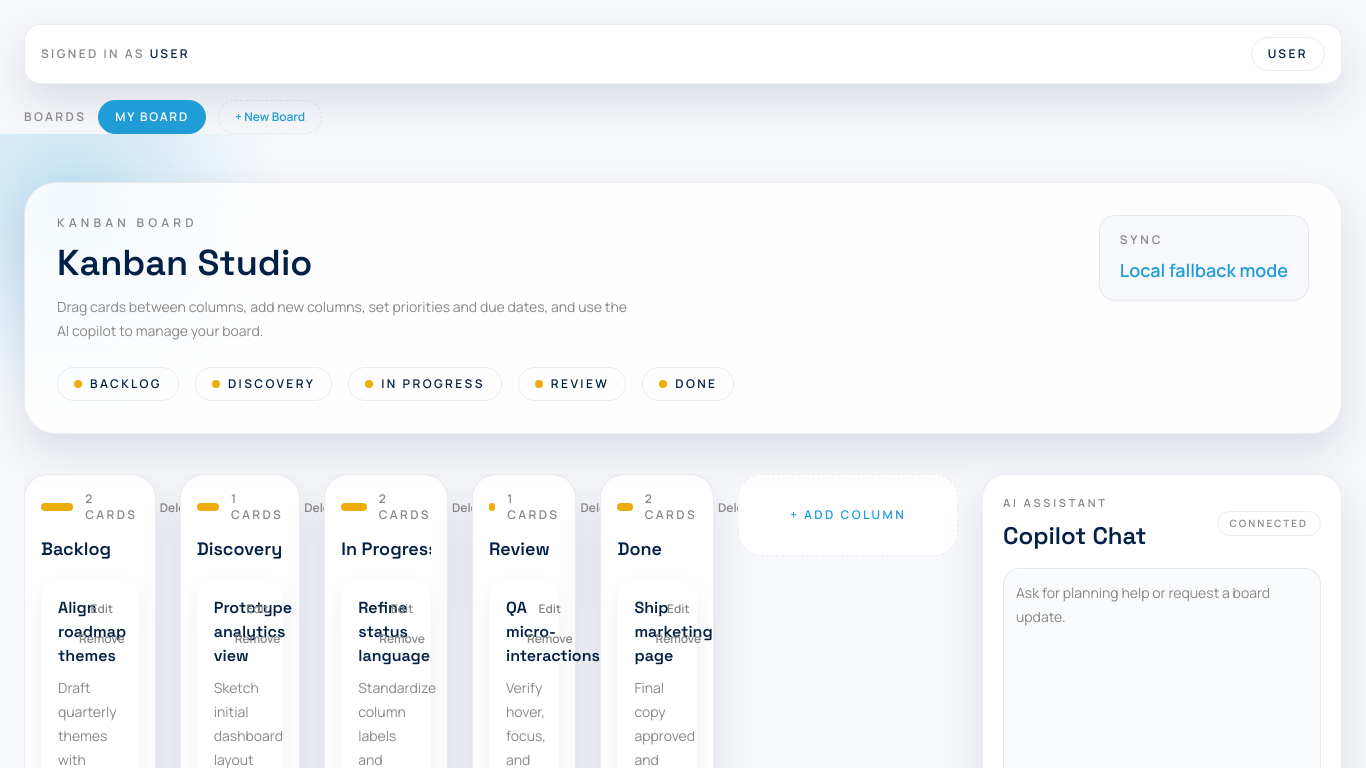
Test: AuthGate › logs out and returns to sign in view
The image size is (1366, 768).
// Open the user dropdown first
Click the button "user" at (1288, 54), box [1251, 37, 1325, 71]
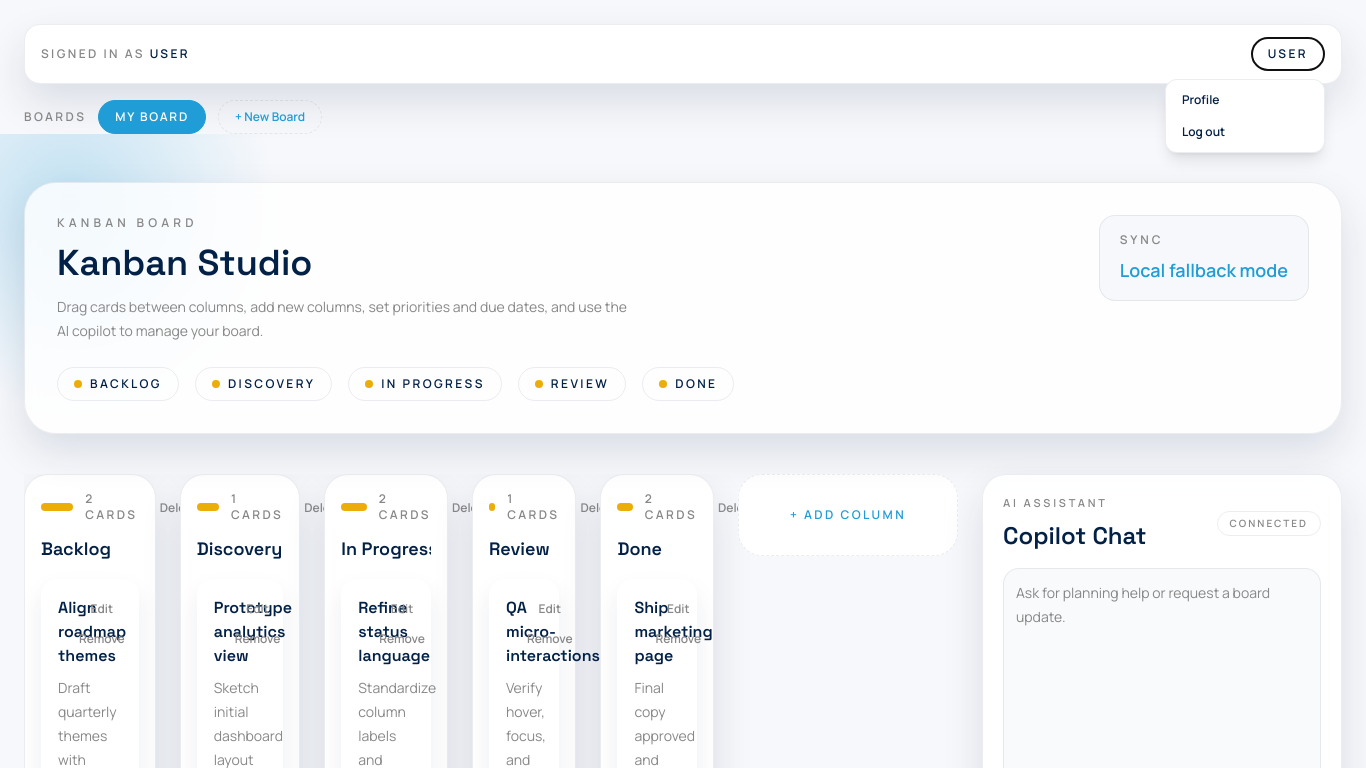
Click the button "Log out" at (1245, 132), box [1166, 116, 1324, 148]
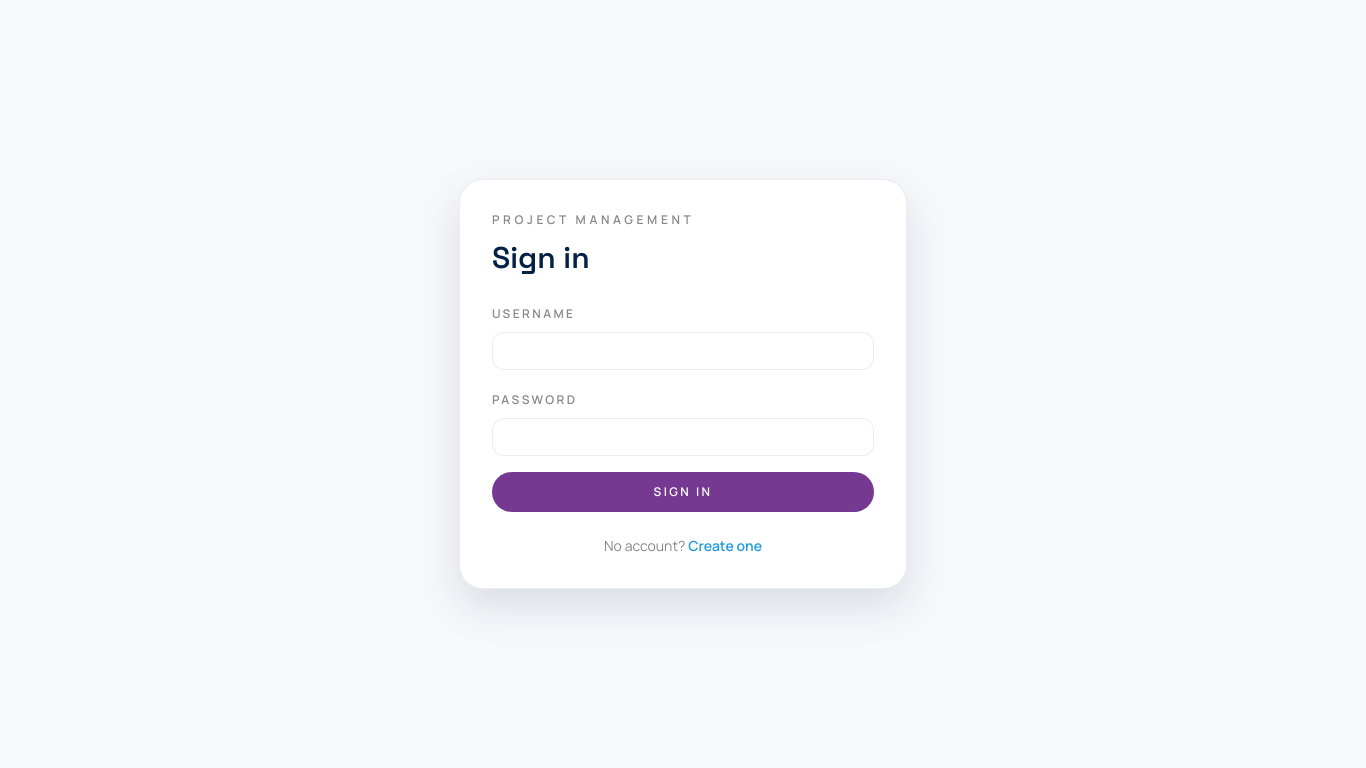
Expected: the heading "Sign in" is shown, [492, 238, 590, 277]
